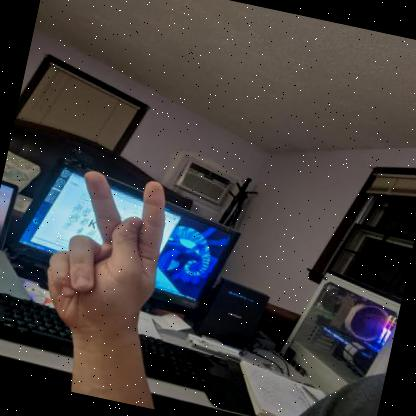K: (47, 171, 164, 349)
